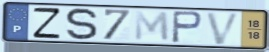7: (102, 8, 133, 42)
M: (133, 10, 171, 43)
P: (170, 10, 205, 45)
S: (64, 7, 100, 42)
V: (204, 11, 243, 46)
Z: (31, 7, 62, 40)
